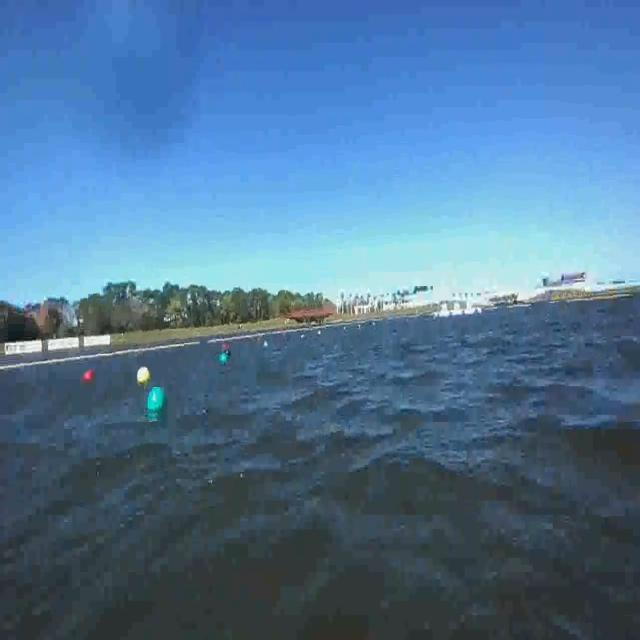green-buoy: (147, 388, 166, 415), (219, 353, 228, 363)
red-buoy: (86, 369, 96, 379)
yellow-buoy: (138, 368, 152, 385)
